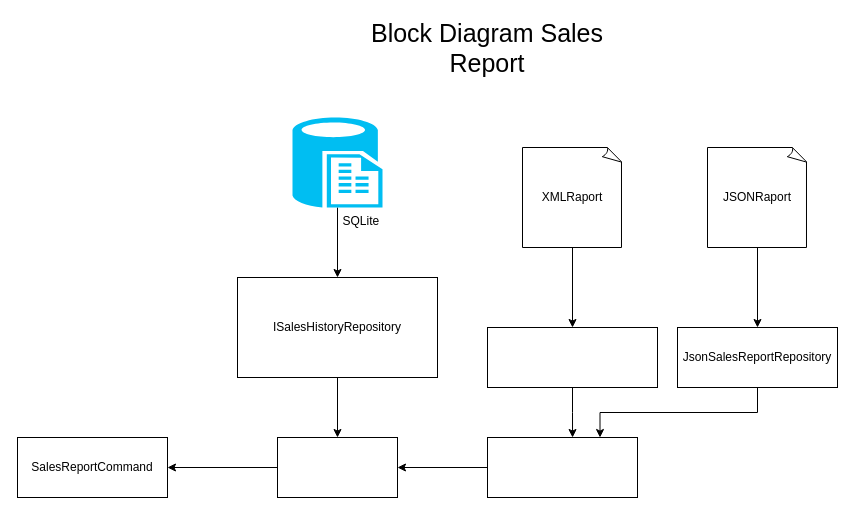
This 855x515 diagram has some shape labels left out. The shapes that lost their labels are listed below. From the top down, each one's centre as x and y in pixels, then its label:
the point at 572,357: XmlSalesReportRepository
the point at 337,467: SalesReportUseCase
the point at 562,467: ISalesReportRepository
